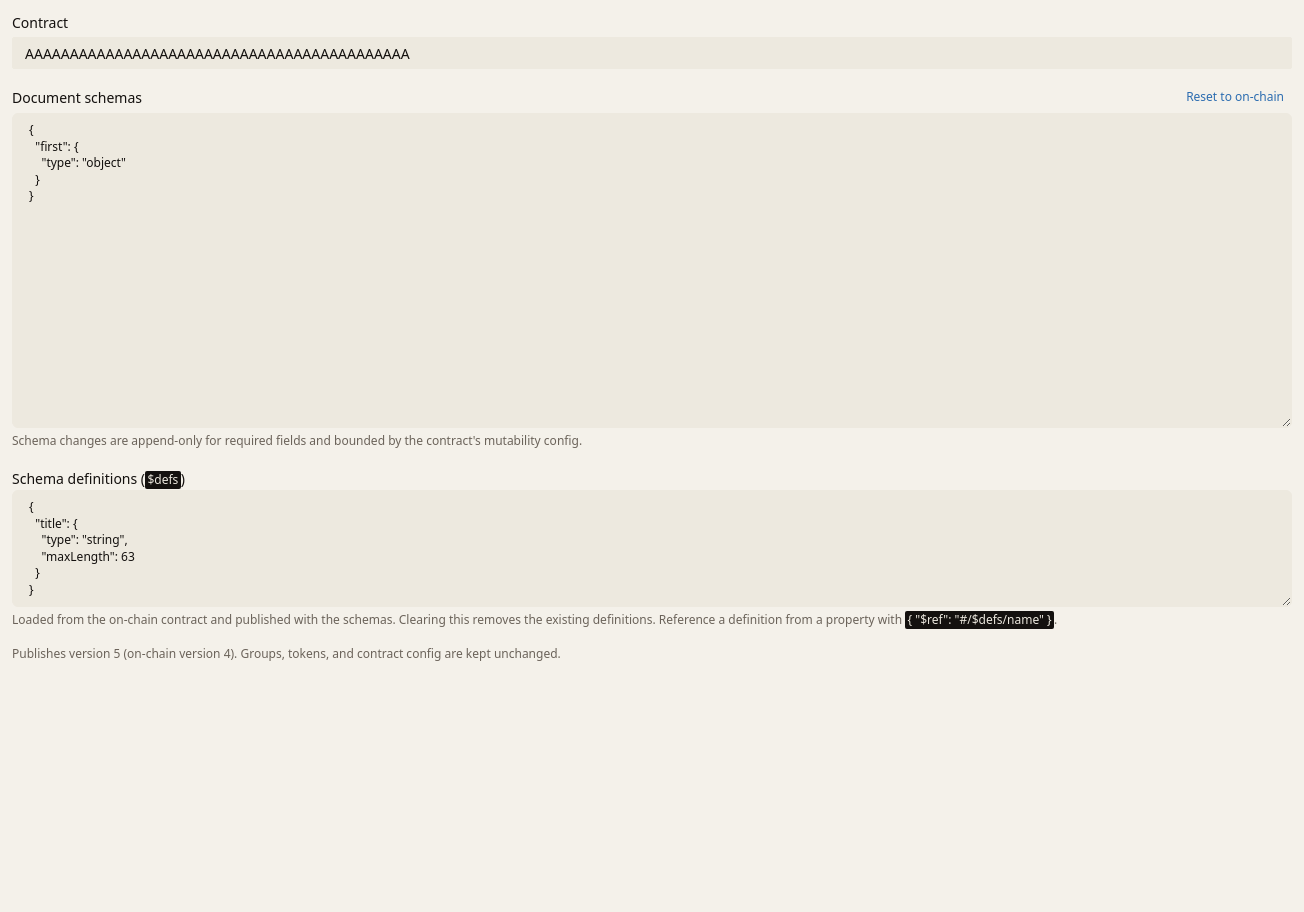
Test: JSON operation forms › loads on-chain definitions and the base version into contract updates
Expected: the text "Publishes version 5 (on-chain version 4)" is shown, [12,645,240,662]
Replace the text in the text box labelled "Schema definitions ( $defs )" with "[]". click: (652, 548)
box: [12,490,1292,607]
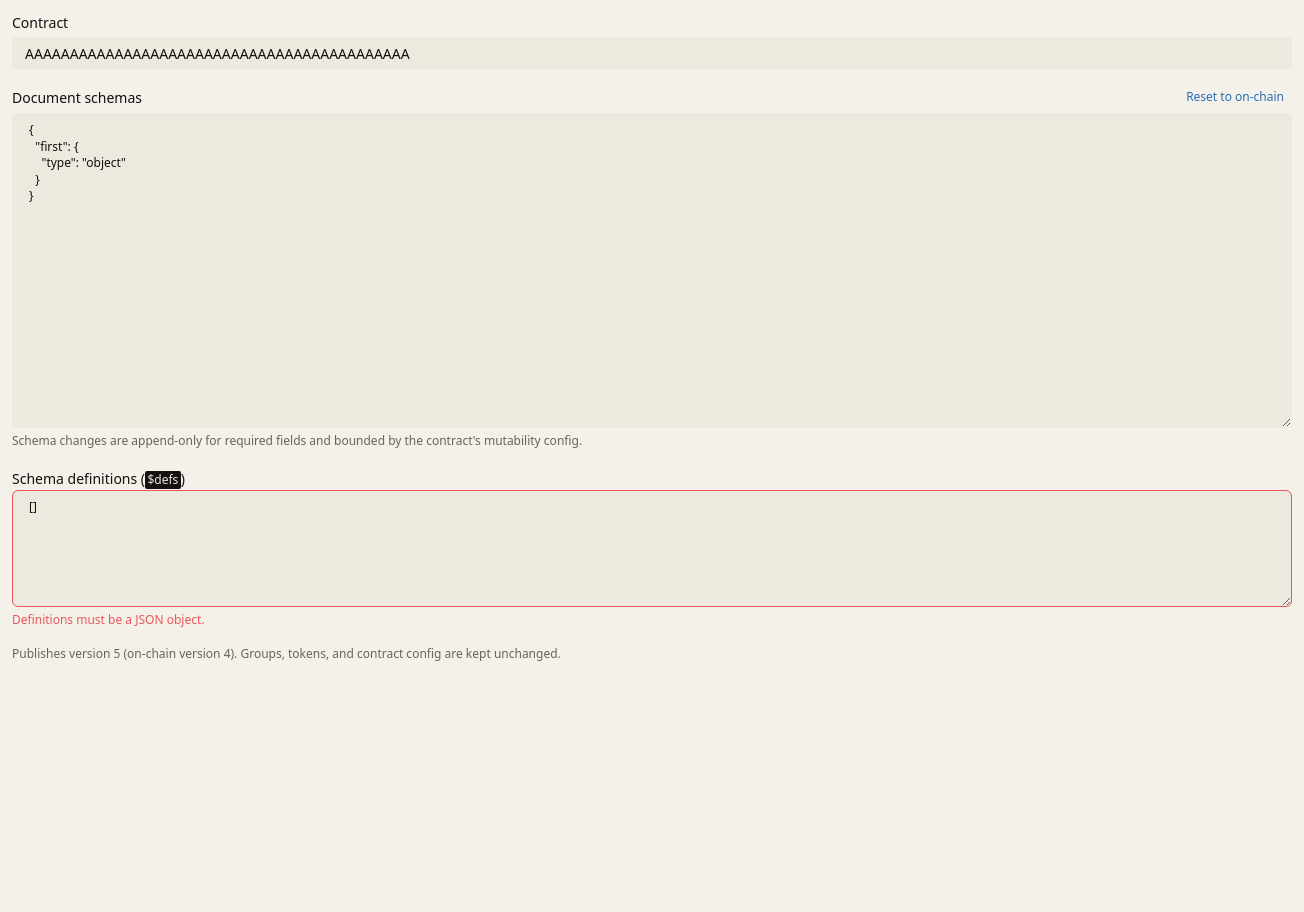
Expected: the text "Definitions must be a JSON object." is shown, [12,611,204,628]
Clear the text box labelled "Schema definitions ( $defs )". click: (652, 548)
box: [12,490,1292,607]
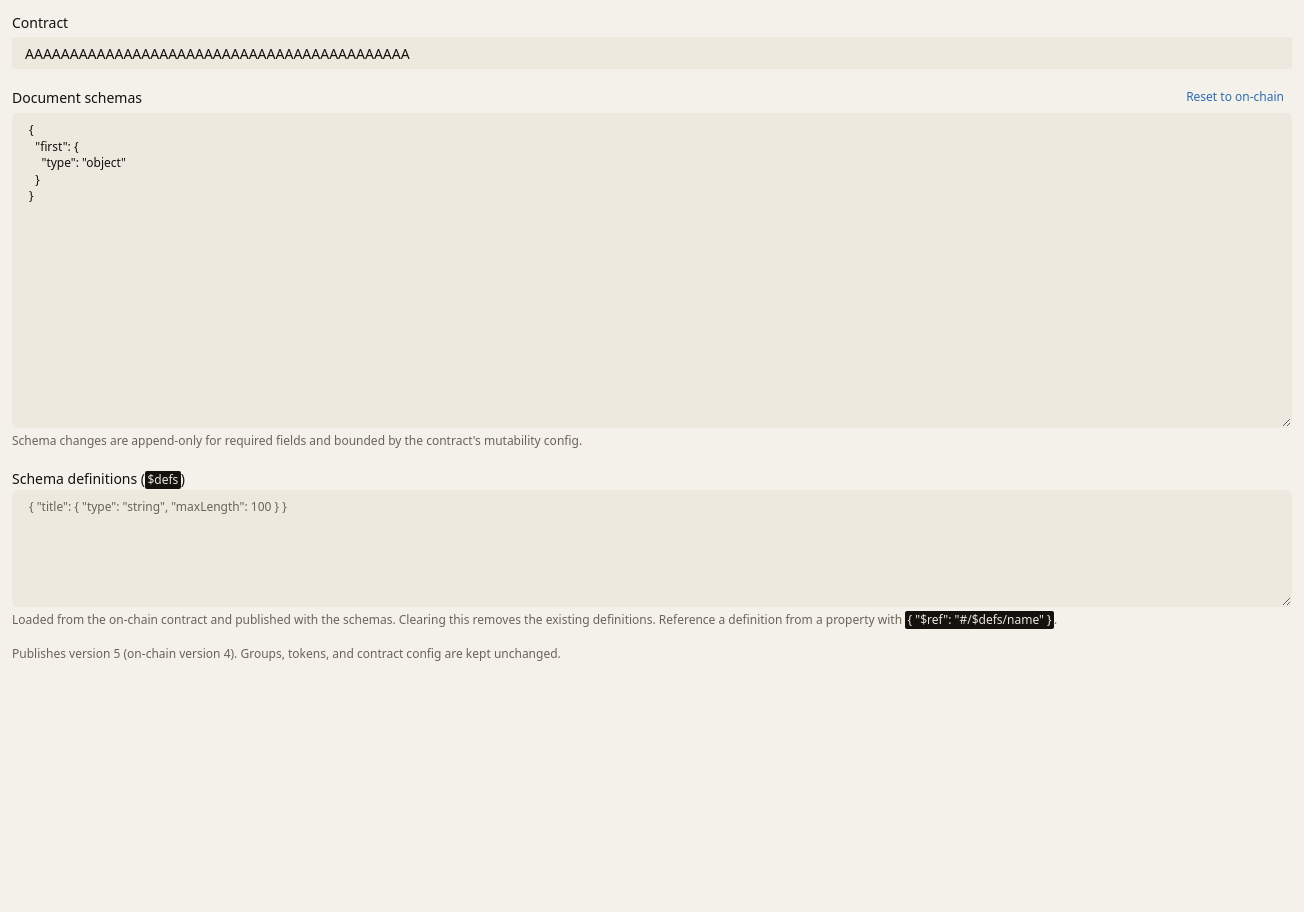
Click the button "Reset to on-chain". click: (1235, 97)
box: [1178,85,1292,109]
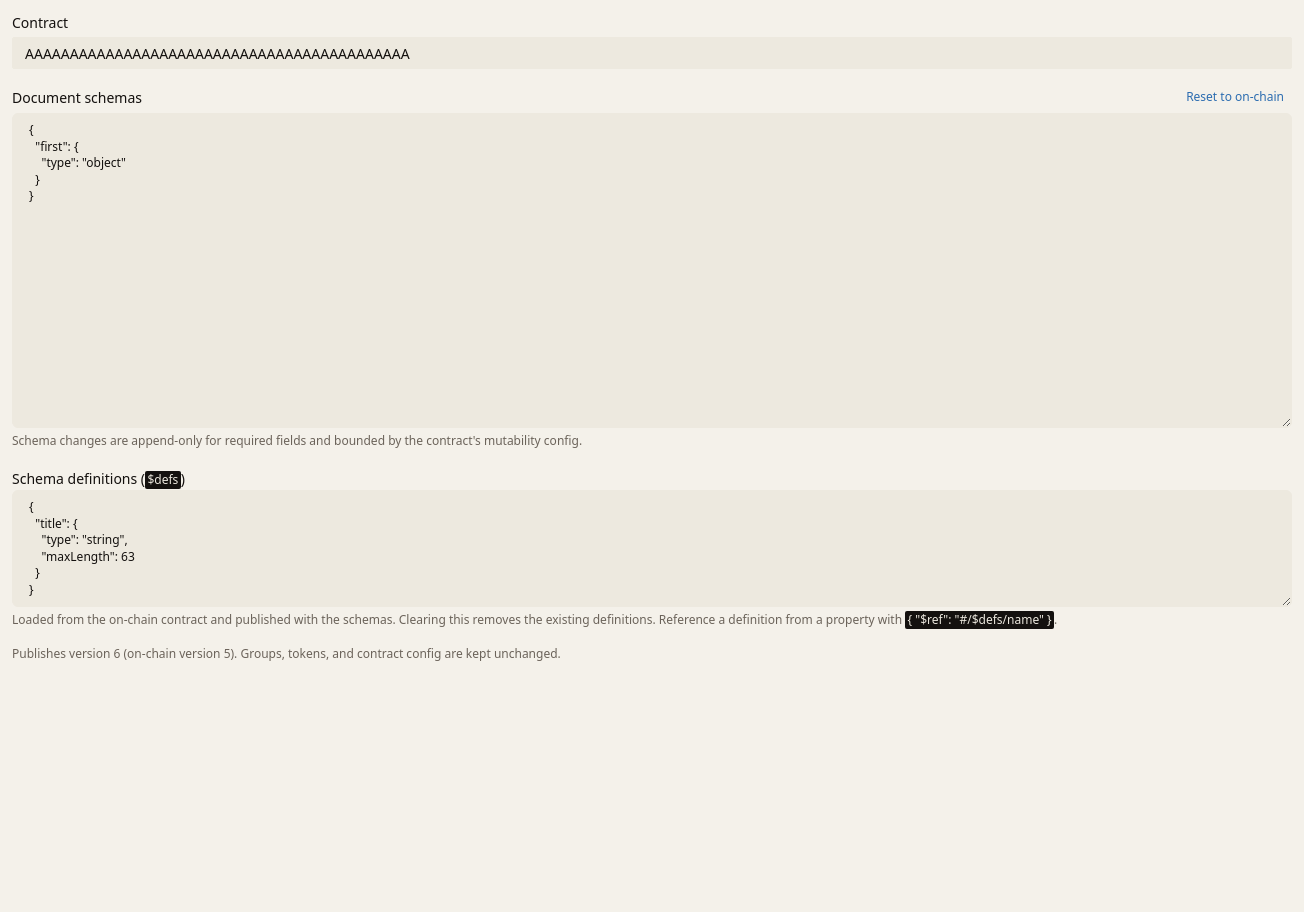
Expected: the text "Publishes version 6 (on-chain version 5)" is shown, [12,645,240,662]
